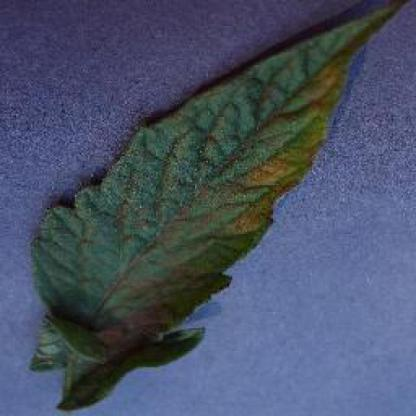Tomato_Leaf_Mold: (31, 0, 410, 407)
